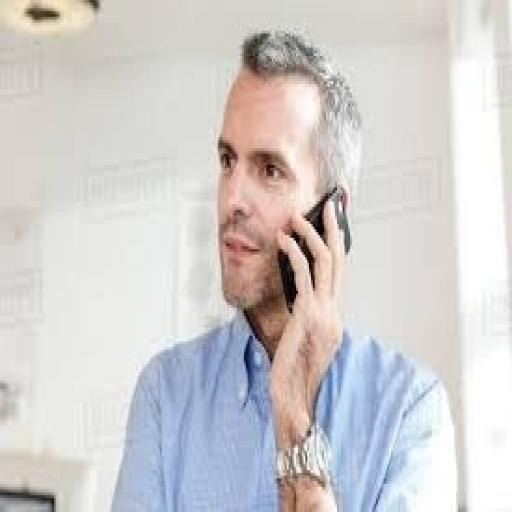texting: (102, 25, 460, 509)
